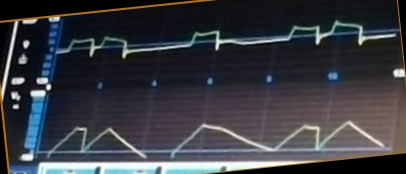Double_Triggering Flow: (63, 17, 396, 68)
Double_Triggering Volume: (48, 99, 385, 158)
